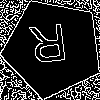R: (28, 23, 71, 73)
